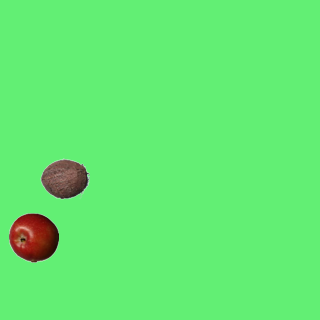Apple Braeburn: (8, 212, 58, 262)
Cocos: (39, 153, 89, 203)
